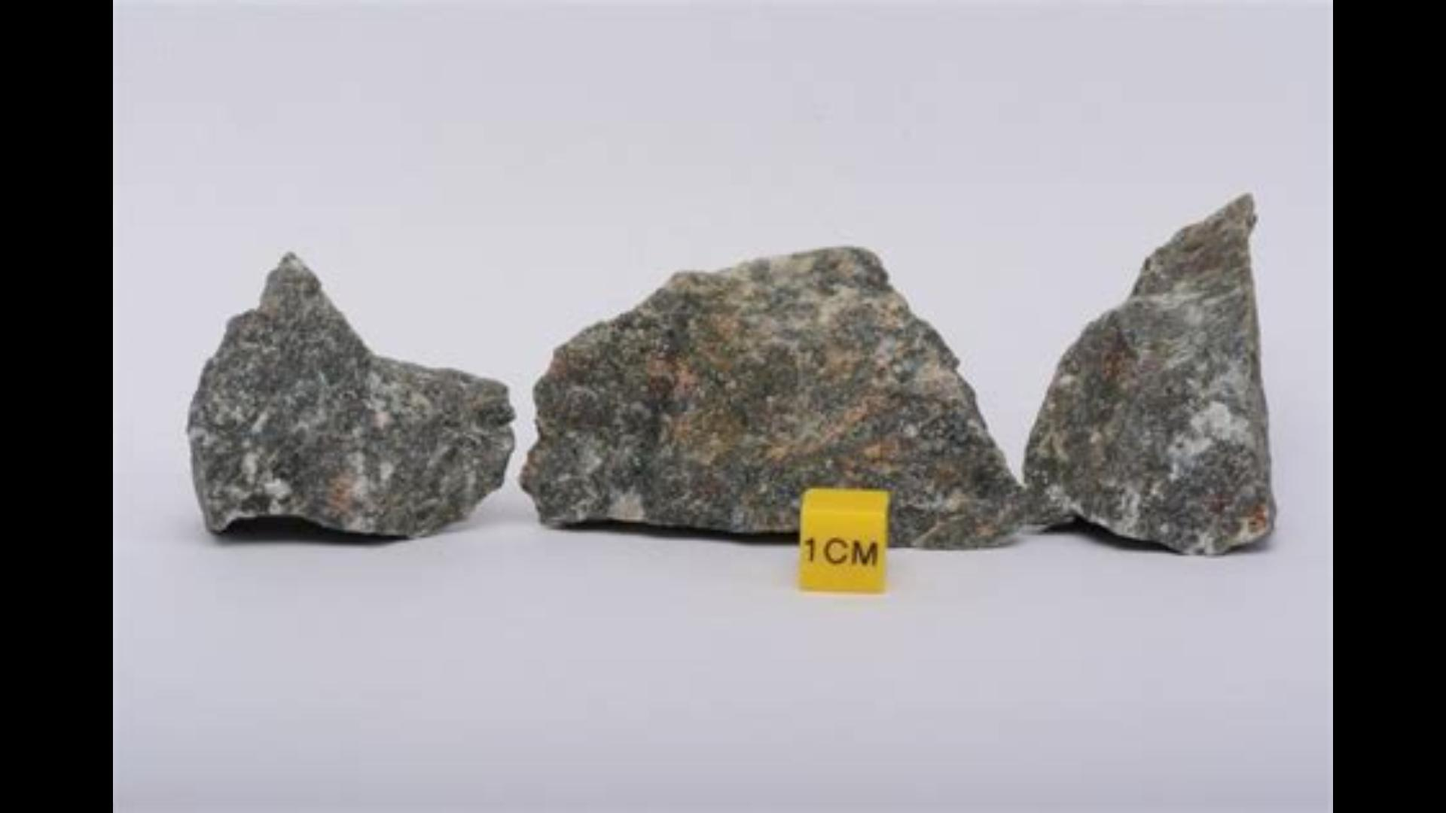rock: (522, 247, 1016, 543), (186, 251, 518, 548), (1024, 194, 1272, 553)
